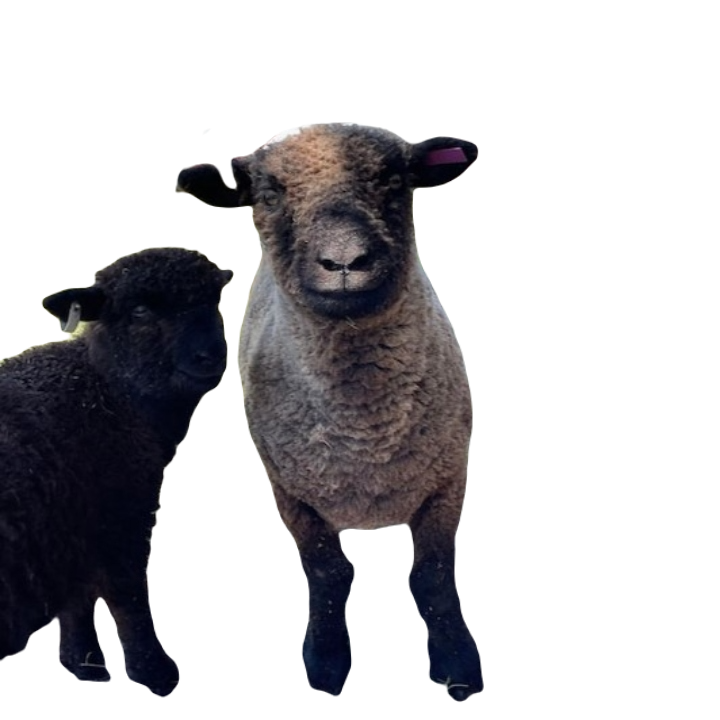Sheep: (177, 120, 486, 703), (0, 243, 235, 698)
